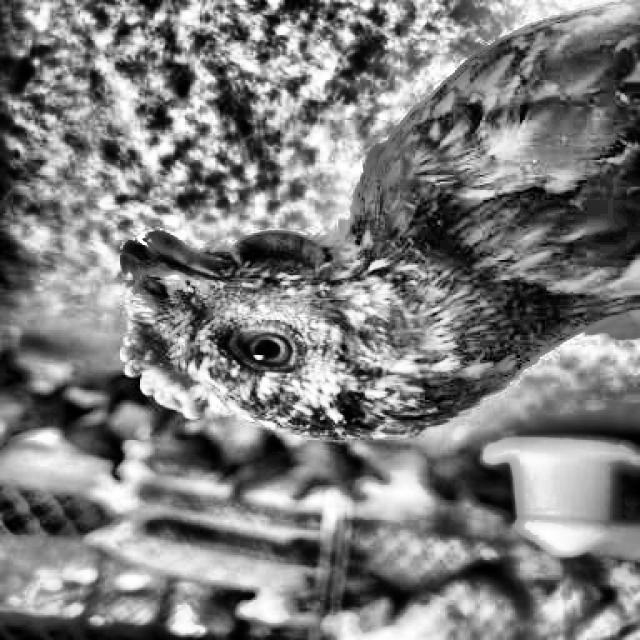Healthy: (215, 315, 328, 378)
